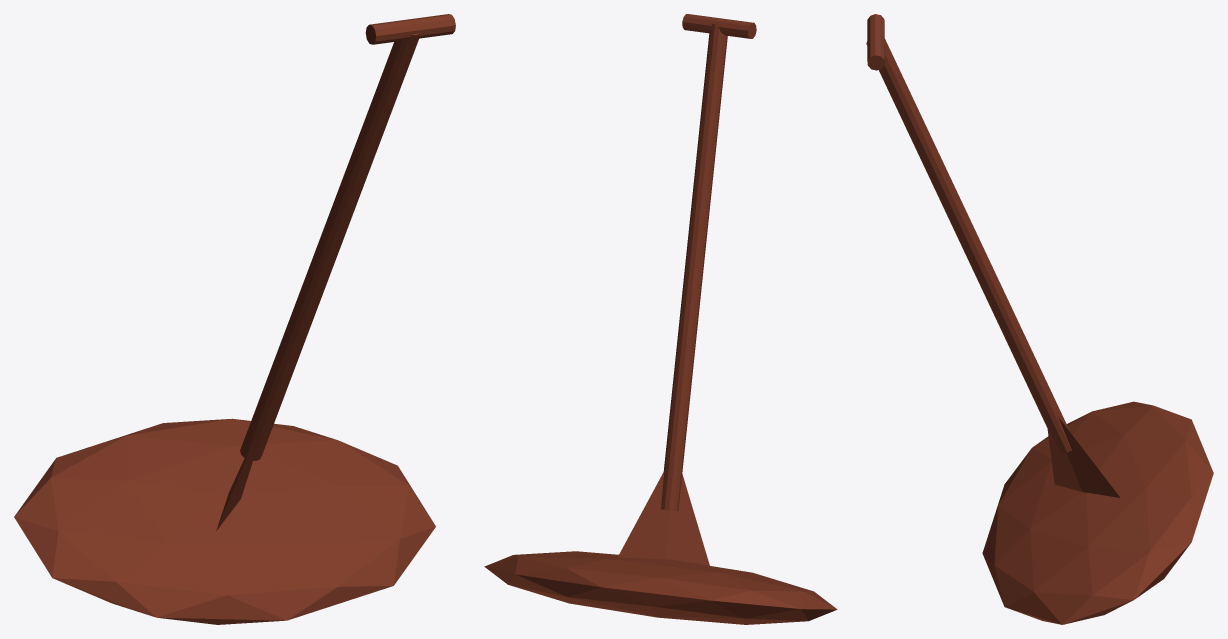
Rendered from pala_oxidada.glb.
3 views of the same model, side by side, from view 1: azimuth 30°, elevation 25°; view 2: azimuth 150°, elevation 25°; view 3: azimuth 270°, elevation 25° (orthographic). The views are drawn at different scales.
Parts seen in each view (by area): view 1: Pala_Oxidada; view 2: Pala_Oxidada; view 3: Pala_Oxidada.
Part boxes in pixels (x1=…): Pala_Oxidada: x1=14, y1=14, x2=455, y2=624; Pala_Oxidada: x1=484, y1=14, x2=837, y2=624; Pala_Oxidada: x1=866, y1=14, x2=1213, y2=624.
Bounding box in the file's own units: 0.8675 × 1.39 × 0.7801.
